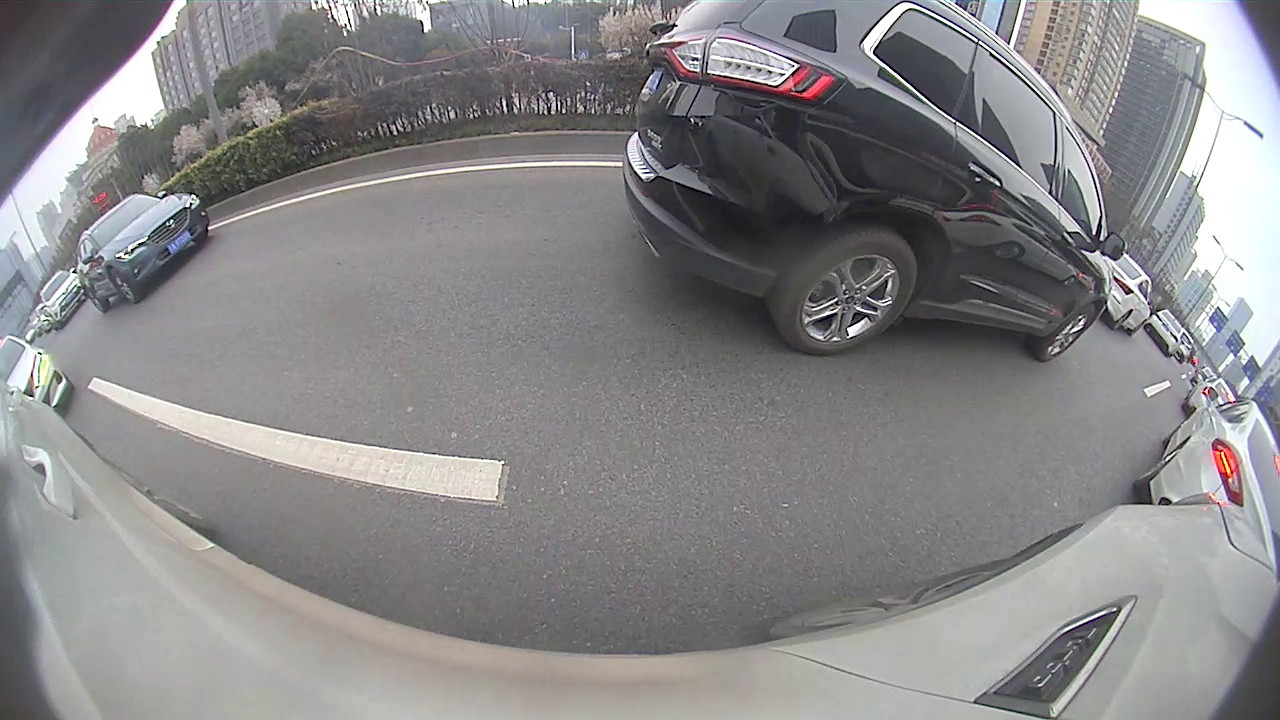car: (621, 1, 1128, 365), (1133, 386, 1278, 579), (74, 193, 212, 313), (1099, 249, 1151, 335), (36, 268, 88, 329), (1144, 308, 1184, 359)
front: (1037, 303, 1103, 360), (106, 268, 137, 305)
rear: (777, 233, 917, 355)
